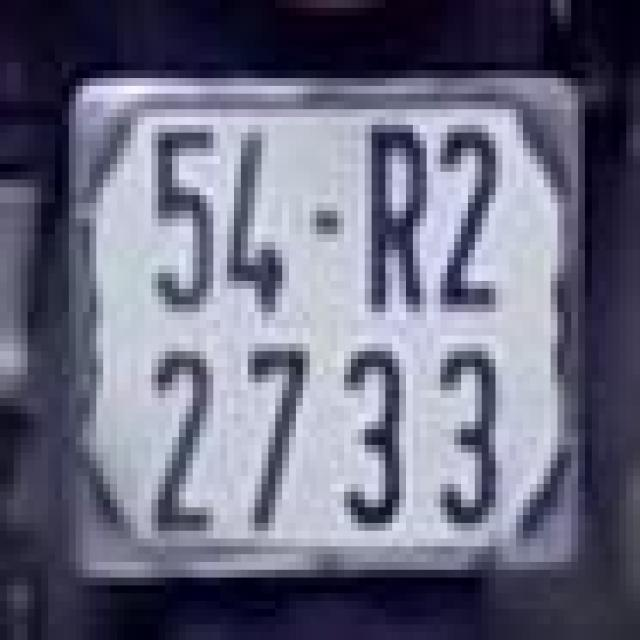2: (138, 344, 220, 546), (434, 113, 509, 324)
3: (430, 332, 527, 550), (334, 336, 409, 546)
4: (217, 117, 292, 328)
5: (141, 117, 224, 320)
7: (237, 336, 320, 538)
R: (358, 109, 433, 328)
